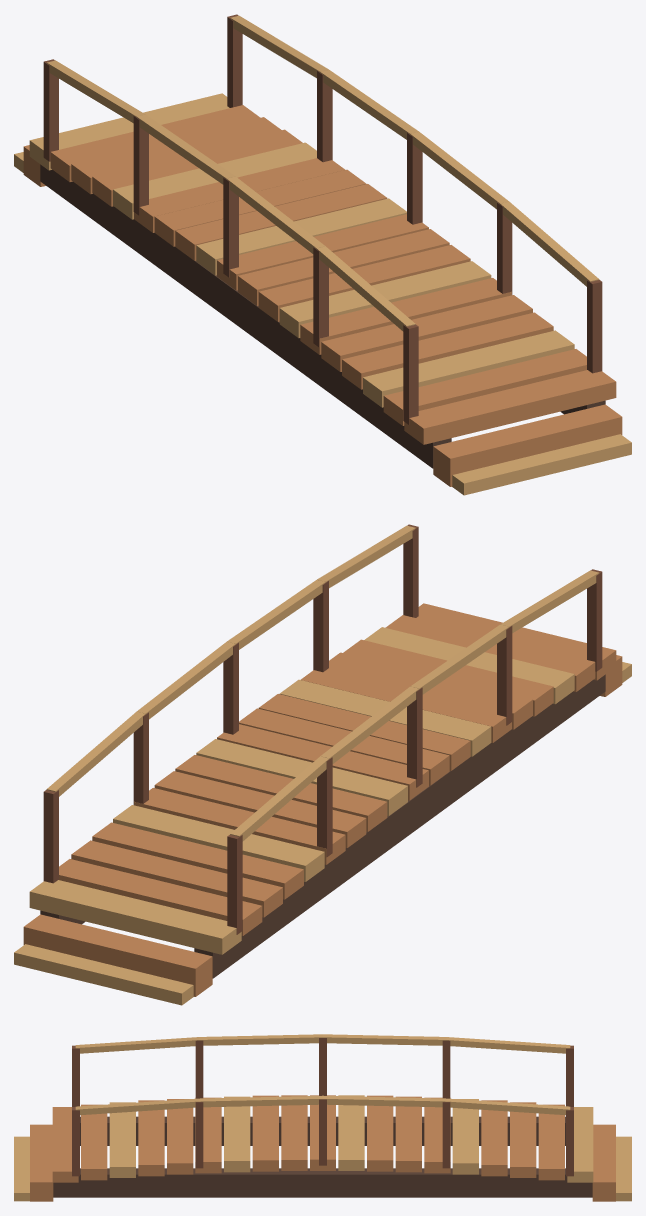
Rendered from Passerelle.fbx.
The picture shows the model from 3 angles, top to bottom: view 1: azimuth 30°, elevation 25°; view 2: azimuth 150°, elevation 25°; view 3: azimuth 270°, elevation 25°; orthographic projection. The views are drawn at different scales.
Parts seen in each view (by area): view 1: Passerelle; view 2: Passerelle; view 3: Passerelle.
Boxes of the visible parts, left/top/right/bottom form: Passerelle: left=14, top=14, right=631, bottom=495; Passerelle: left=14, top=524, right=631, bottom=1005; Passerelle: left=14, top=1034, right=631, bottom=1201.
Bounding box in the file's own units: 236 × 181 × 951.
1 material, 1 textured.
